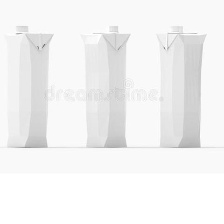carton: (78, 22, 132, 153), (152, 22, 207, 149), (1, 23, 54, 149)
